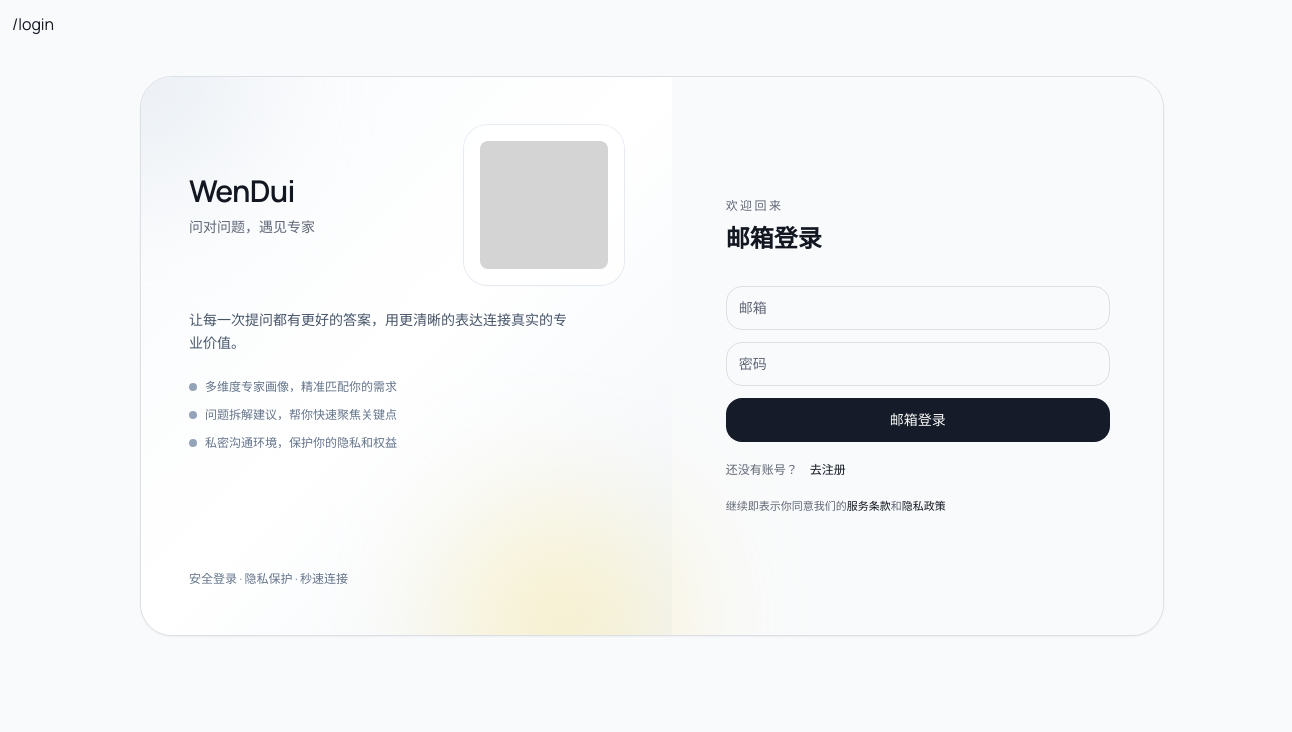
Test case: redirects back to chat with draft after login
Type "a@b.com" into the field with placeholder "邮箱".
click(918, 308); type("a@b.com")  # box [726,286,1110,330]
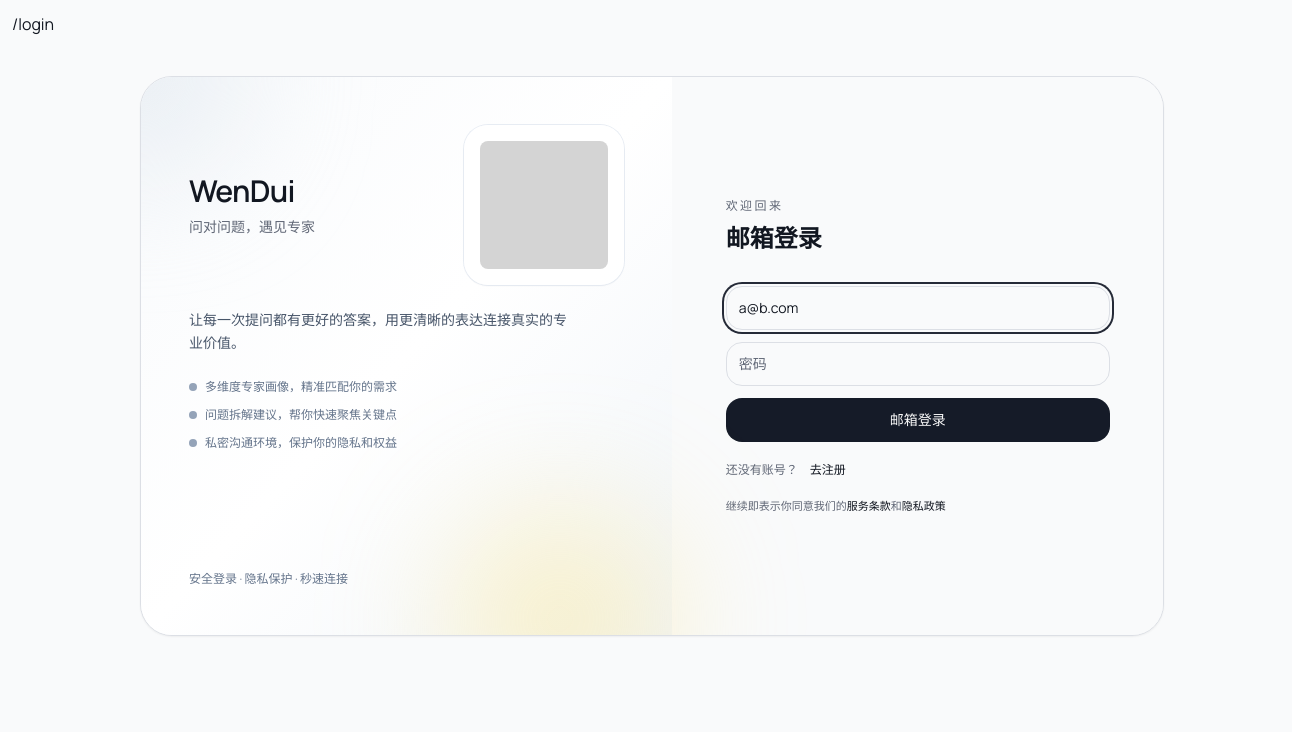
Type "secret123" into the password field with placeholder "密码".
click(918, 364); type("secret123")  # box [726,342,1110,386]
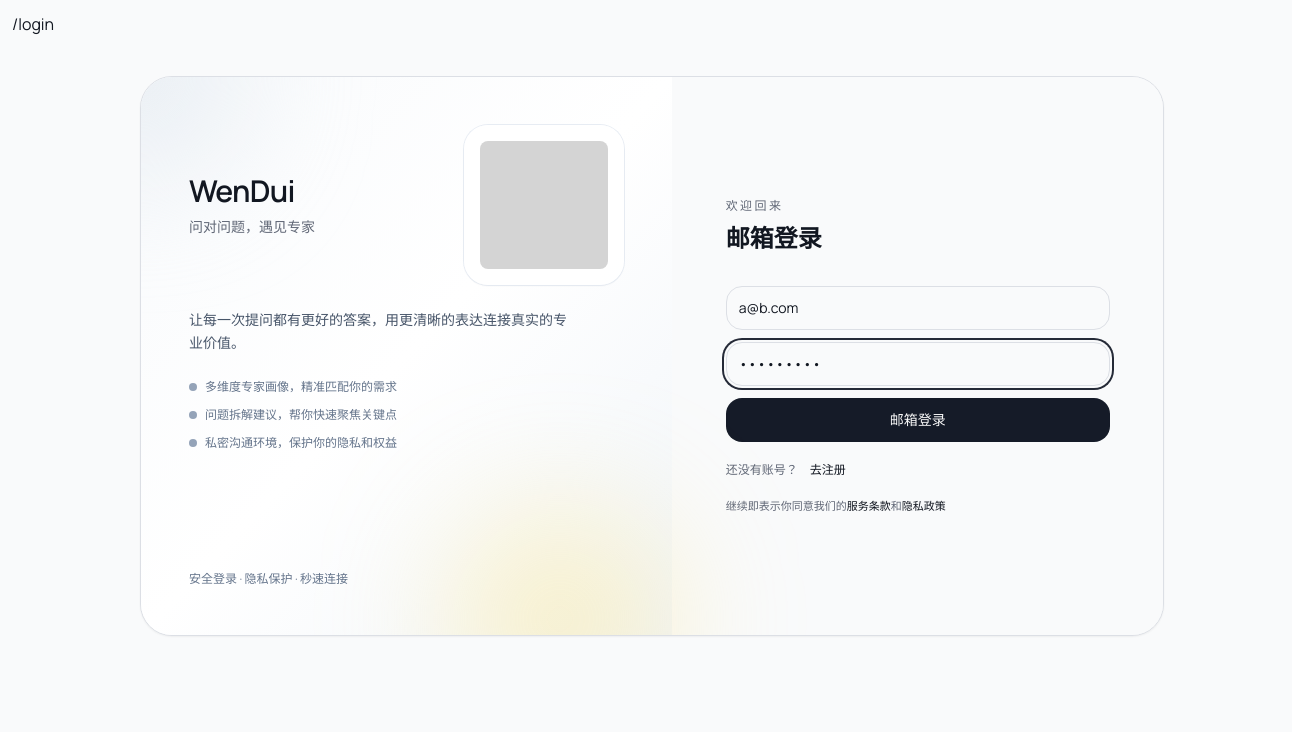
Click the button "邮箱登录".
click(918, 420)  # box [726,398,1110,442]
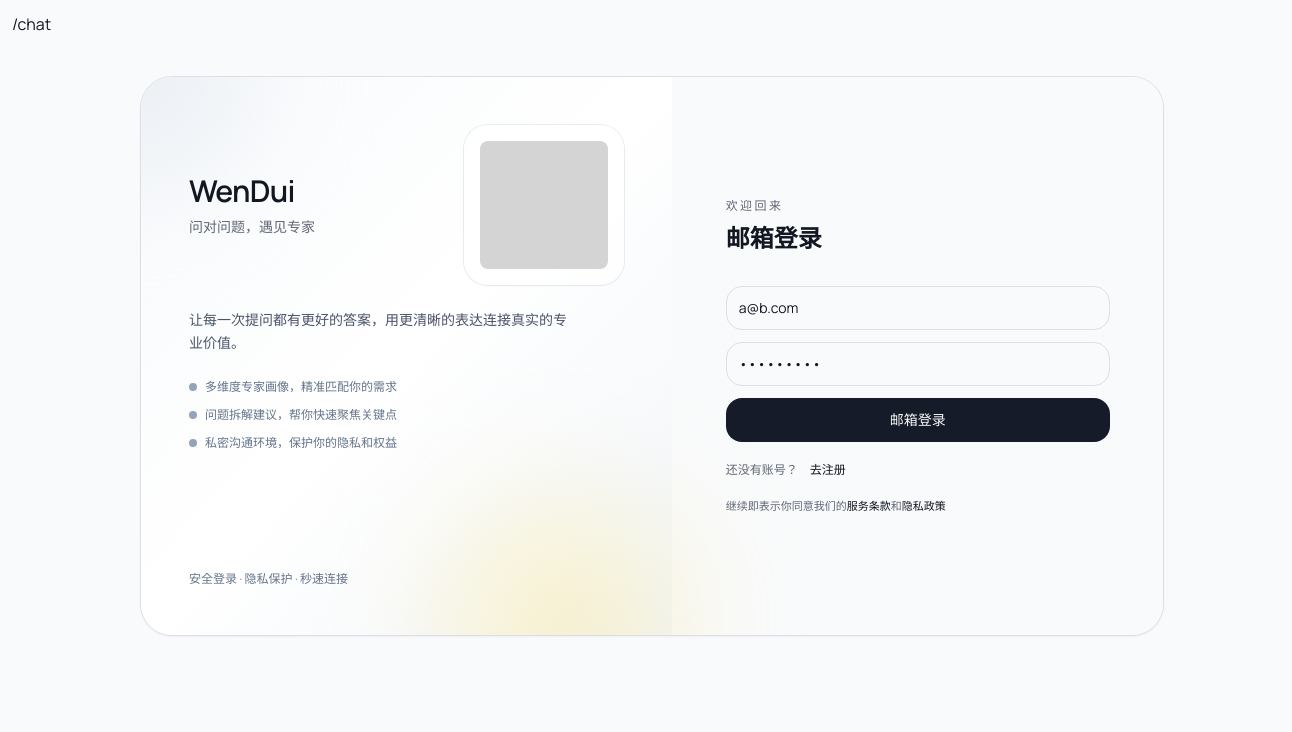
Now the text with test id "location-display" reads "/chat", box [12,13,51,35]
